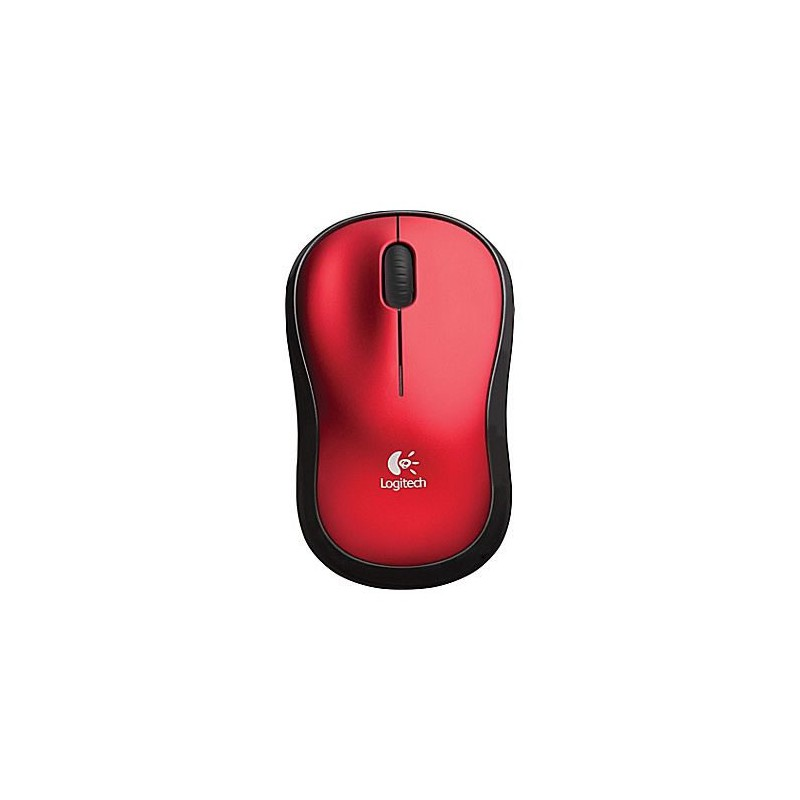logitech-mouse-m185: (270, 207, 517, 585)
